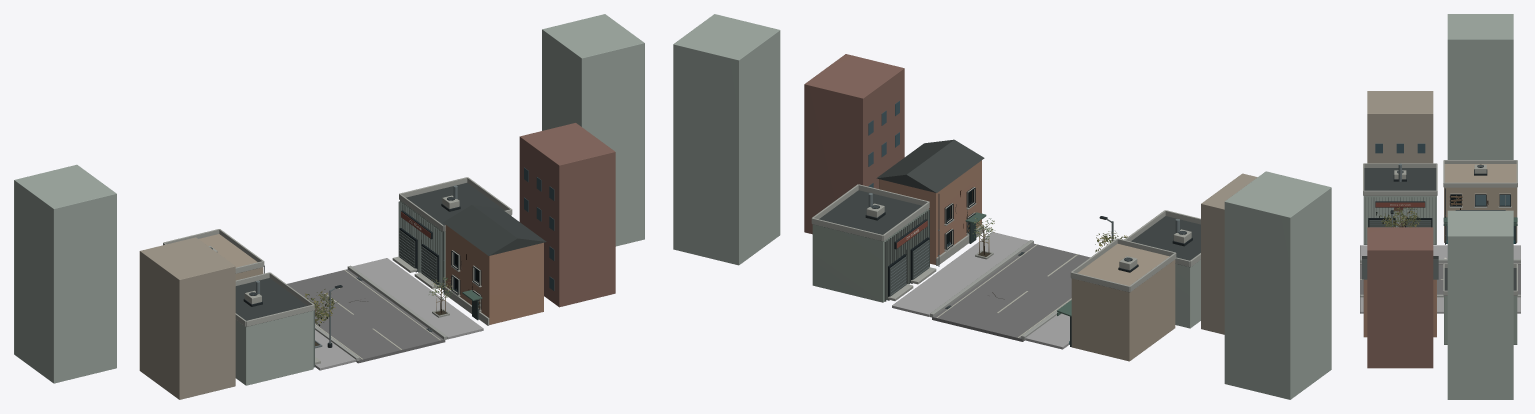
File: city_hd_12.glb
The picture shows the model from 3 angles, left to right: view 1: azimuth 30°, elevation 25°; view 2: azimuth 150°, elevation 25°; view 3: azimuth 270°, elevation 25°; orthographic projection. The views are drawn at different scales.
Visible parts, largest first — view 1: CITY_realwall_a3aea6, Background city building.002, Background city building, CITY_PBR_asphalt, CITY_roof, Narrow townhouse volume, CITY_PBR_pavement, CITY_trim, CITY_warehouse_metal, Mixed use shop volume, CITY_door_metal, CITY_curb (+5 smaller); view 2: CITY_realwall_a3aea6, Background city building.002, Mixed use shop volume, CITY_PBR_asphalt, CITY_roof, Industrial warehouse volume.001, CITY_PBR_pavement, CITY_trim, Background city building, Narrow townhouse volume, CITY_warehouse_metal, CITY_door_metal (+4 smaller); view 3: CITY_realwall_a3aea6, Background city building.002, Background city building, Mixed use shop volume, CITY_roof, CITY_trim, CITY_PBR_pavement, Narrow townhouse volume, CITY_warehouse_metal, Tree individual folded leaves, Industrial warehouse volume.001, CITY_PBR_asphalt (+9 smaller).
Boxes of the visible parts, x1,y1,x2,y2 form: CITY_realwall_a3aea6: (14,14,644,385); Background city building.002: (519,123,615,307); Background city building: (139,237,235,399); CITY_PBR_asphalt: (287,269,445,363); CITY_roof: (235,183,546,326); Narrow townhouse volume: (445,225,543,324); CITY_PBR_pavement: (315,258,483,370); CITY_trim: (163,177,512,364); CITY_warehouse_metal: (313,201,442,367); Mixed use shop volume: (199,234,263,280); CITY_door_metal: (399,230,437,284); CITY_curb: (315,265,447,361); CITY_realwall_a3aea6: (673,14,1331,399); Background city building.002: (804,54,904,234); Mixed use shop volume: (1071,243,1175,361); CITY_PBR_asphalt: (932,243,1090,341); CITY_roof: (819,139,1200,292); Industrial warehouse volume.001: (812,208,928,302); CITY_PBR_pavement: (892,232,1069,349); CITY_trim: (811,184,1200,300); Background city building: (1201,173,1257,334); Narrow townhouse volume: (879,160,981,264); CITY_warehouse_metal: (884,209,929,301); CITY_door_metal: (890,240,929,296); CITY_realwall_a3aea6: (1363,14,1513,399); Background city building.002: (1367,227,1433,368); Background city building: (1367,91,1433,163); Mixed use shop volume: (1444,164,1517,242); CITY_roof: (1362,168,1516,290); CITY_trim: (1363,160,1517,295); CITY_PBR_pavement: (1360,245,1520,313); Narrow townhouse volume: (1363,279,1436,337); CITY_warehouse_metal: (1365,196,1435,244); Tree individual folded leaves: (1380,207,1420,227); Industrial warehouse volume.001: (1444,296,1517,344); CITY_PBR_asphalt: (1360,262,1520,294).
Bounding box in the file's own units: 56.65 × 18.26 × 16.
